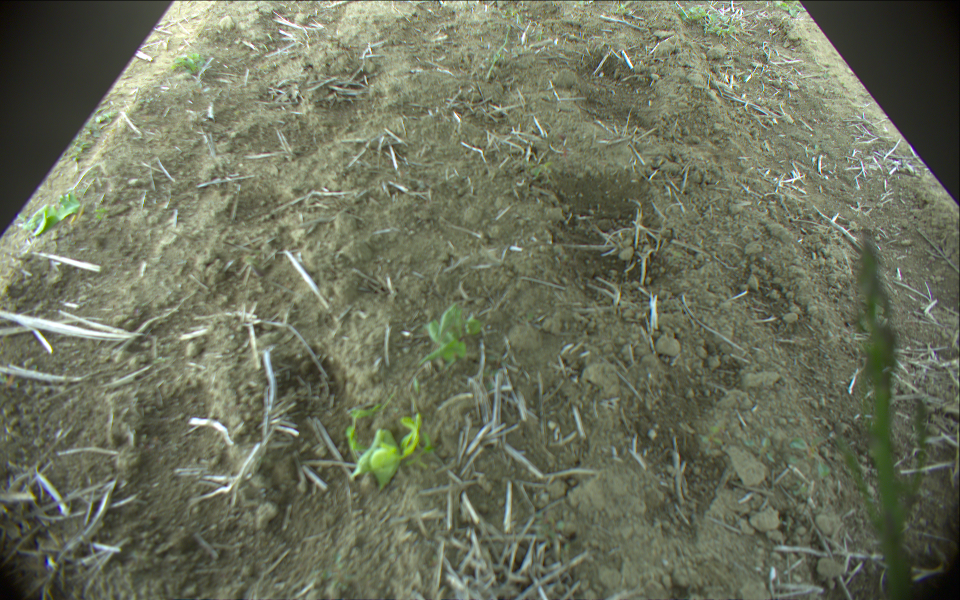aspa: (835, 228, 931, 599)
